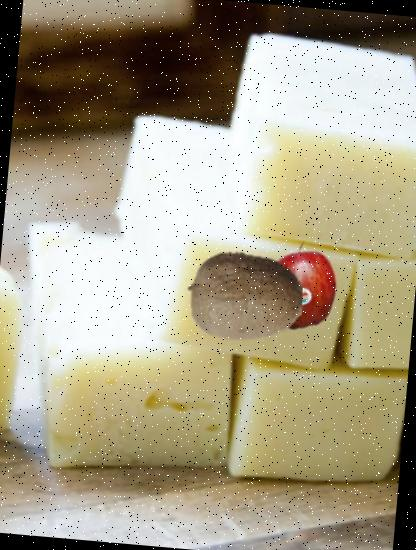Apple: (256, 240, 348, 332)
Kiwi: (182, 233, 308, 359)
